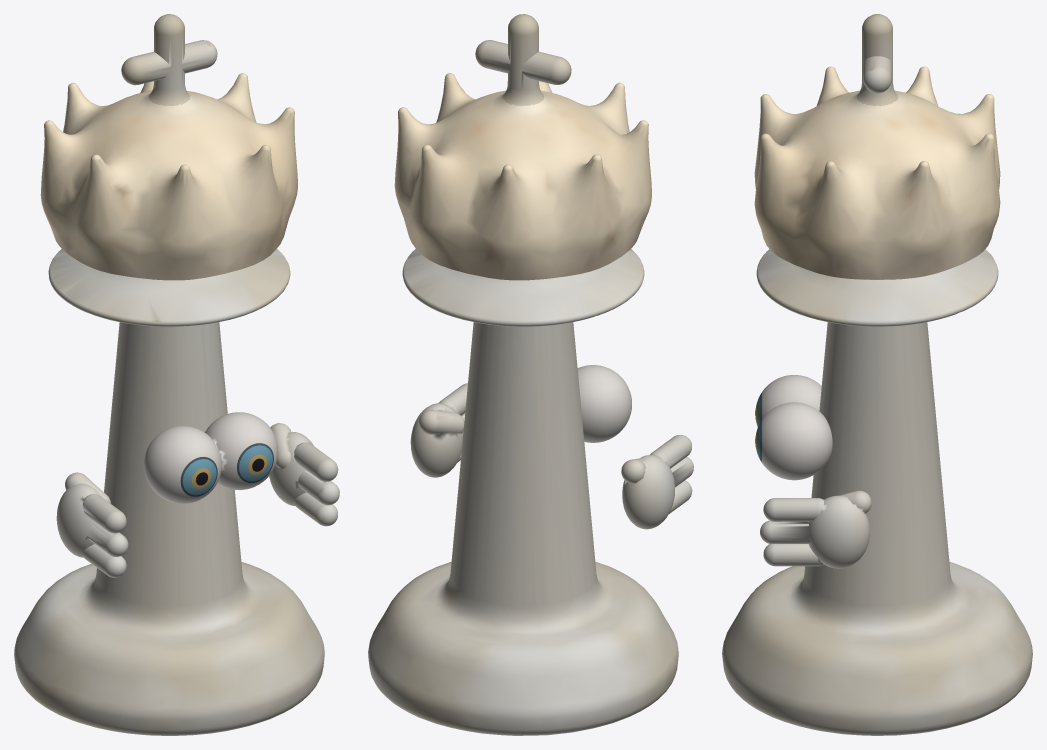
Rendered from king-light.glb.
3 renders of one model, left to right at view 1: azimuth 30°, elevation 25°; view 2: azimuth 150°, elevation 25°; view 3: azimuth 270°, elevation 25°, orthographic.
Visible parts, largest first — view 1: body, hand, eye; view 2: body, hand, eye; view 3: body, hand, eye.
Part boxes in pixels (left/top/right/bottom): body: left=14, top=14, right=324, bottom=735; hand: left=56, top=423, right=339, bottom=577; eye: left=144, top=412, right=277, bottom=503; body: left=368, top=14, right=678, bottom=735; hand: left=410, top=383, right=693, bottom=529; eye: left=577, top=365, right=631, bottom=442; body: left=722, top=14, right=1032, bottom=735; hand: left=760, top=490, right=871, bottom=568; eye: left=755, top=375, right=832, bottom=480.
Size of the model in its own units: 2.39 by 5.63 by 2.39.
